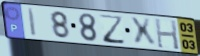8: (48, 10, 72, 40), (77, 12, 99, 43)
H: (154, 17, 181, 51)
I: (26, 7, 39, 39)
X: (128, 17, 158, 48)
Z: (97, 13, 127, 46)
